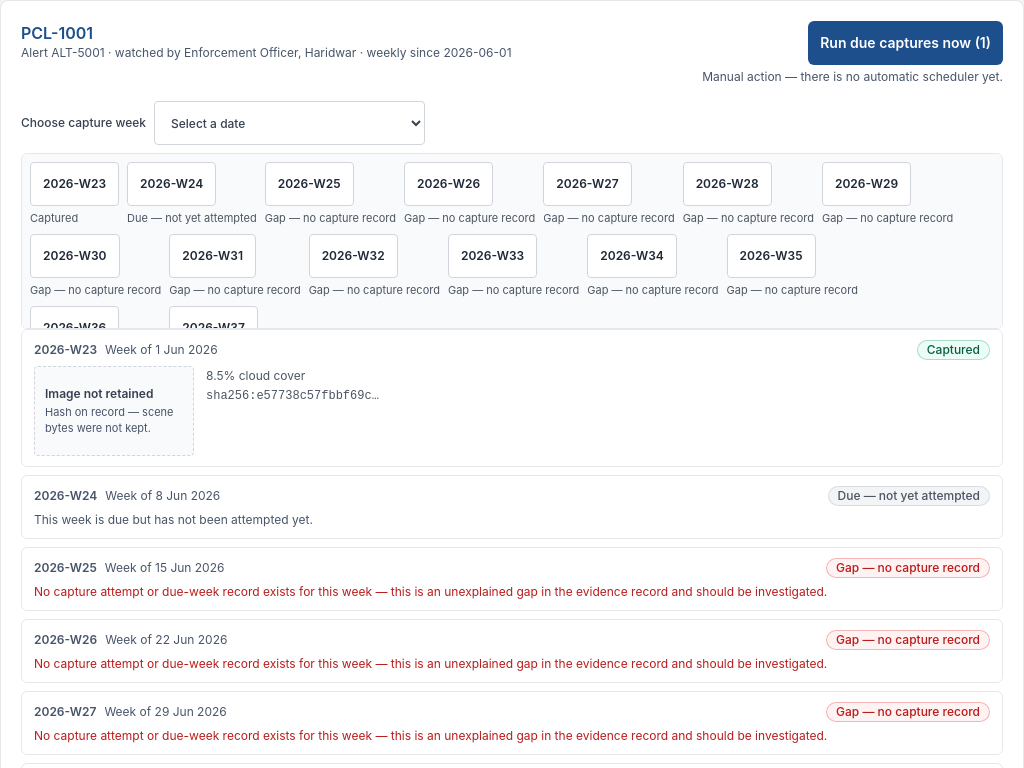
Test: WatchlistEntryCard › runs due captures, merges the new attempt into the timeline, and clears the due week
Click the button with aria-label "Run due captures now for PCL-1001 (1 due)". click: (906,43)
box: [808,21,1003,65]
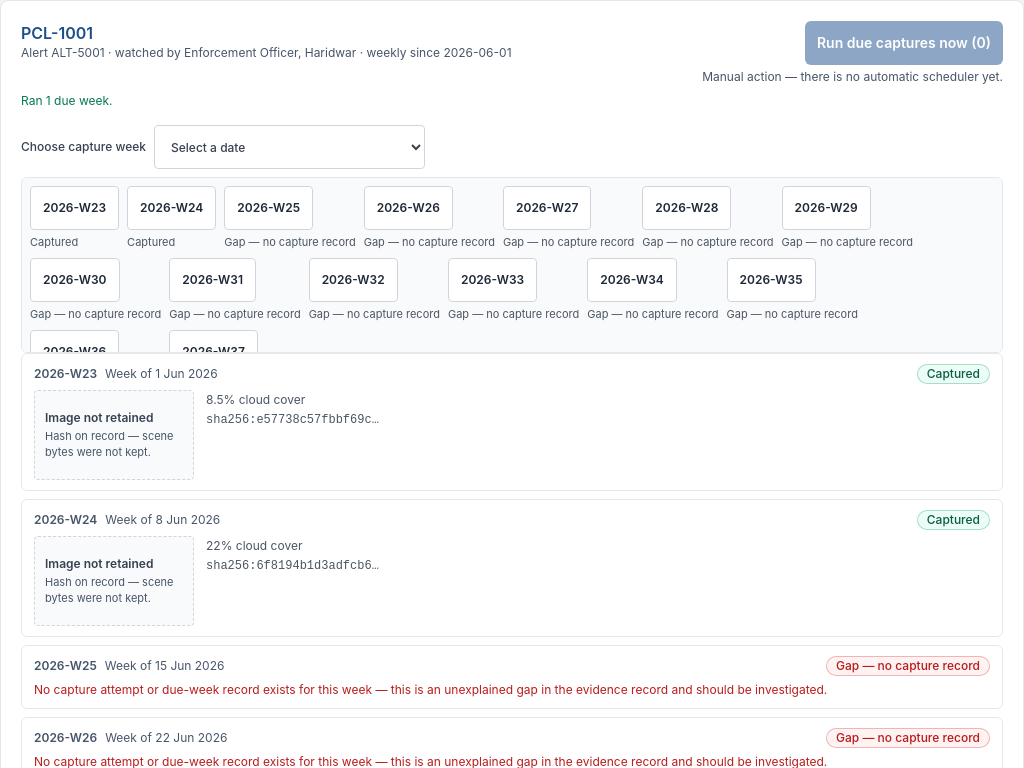
Now the text with test id "run-captures-notice" reads "Ran 1 due week.", box [21,93,113,108]
Now the button with aria-label "Run due captures now for PCL-1001 (0 due)" is disabled, box [805,21,1003,65]
